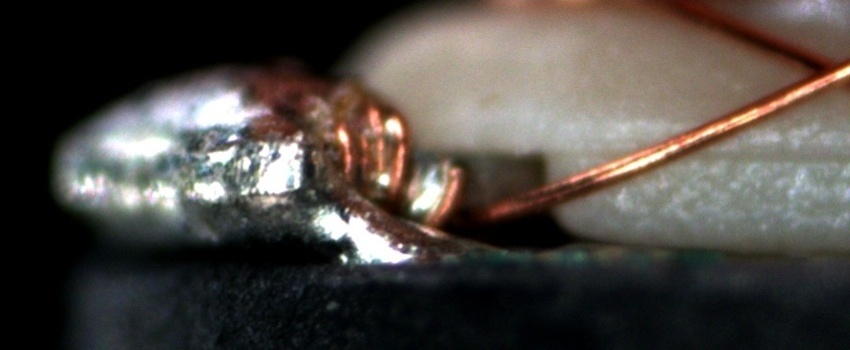CL: (778, 42, 848, 102)
DL: (581, 118, 849, 182)
TE: (321, 87, 474, 231)
